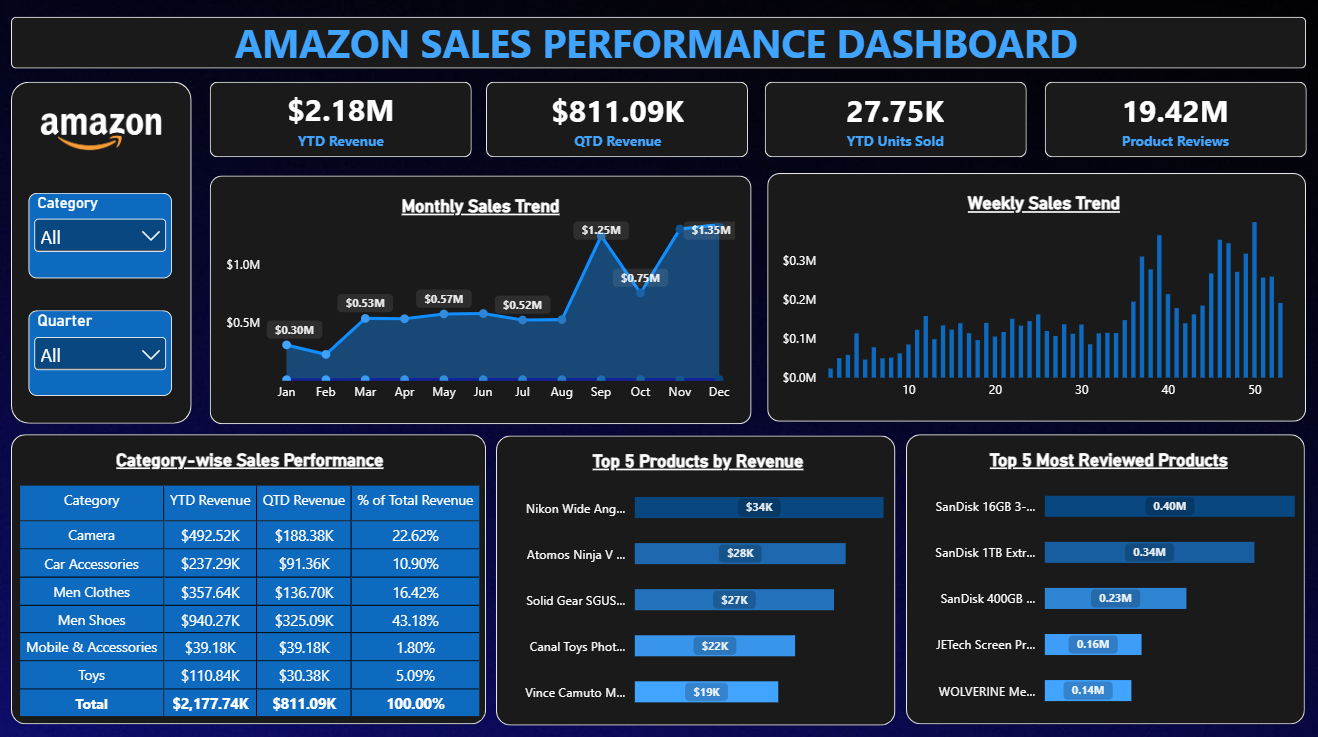

Layout of this report page (visuals, bound fields, positions):
{"tool":"powerbi","page":{"name":"Page 1","canvas":[1280,720],"ordinal":0},"visuals":[{"type":"shape","box":[14.5,18.1,1250,50],"z":0},{"type":"shape","box":[472.8,81.4,252.9,72.9],"z":500,"group":"g1"},{"type":"shape","box":[205.7,81.4,252.9,72.9],"z":1000,"group":"g1"},{"type":"textbox","box":[230,18.6,818.6,51.4],"z":2000},{"type":"shape","box":[14.3,81.4,174.3,330],"z":4000},{"type":"shape","box":[744.3,168.6,520,240],"z":5000},{"type":"shape","box":[205.7,171.4,522.9,240],"z":8000},{"type":"shape","box":[14.3,421.4,458.6,280],"z":12000},{"type":"shape","box":[482.7,421.8,385.5,280],"z":14000},{"type":"group","id":"g1","title":"Group 1","box":[205.7,81.4,1058.6,72.9],"z":14500},{"type":"slicer","fields":{"Values":["Amazon_Data.Product Category"]},"box":[31.6,188,138.6,82.3],"z":17000},{"type":"slicer","fields":{"Values":["Date Table.Qtr"]},"box":[31.6,301.9,138.6,82.3],"z":18000},{"type":"image","box":[28.8,111.1,145.7,42.9],"z":19000},{"type":"cardVisual","fields":{"Data":["Amazon_Data.QTD Sales"]},"box":[502.9,82.9,194.3,71],"z":20500},{"type":"cardVisual","fields":{"Data":["Amazon_Data.YTD Sale"]},"box":[247,82.3,171.5,71.4],"z":21000},{"type":"cardVisual","fields":{"Data":["Amazon_Data.YTD Product Sold"]},"box":[771.4,82.9,194.3,71],"z":21500},{"type":"shape","box":[741.4,81.4,252.9,72.9],"z":22000,"group":"g1"},{"type":"cardVisual","fields":{"Data":["Amazon_Data.YTD Reviews"]},"box":[1041.4,82.9,194.3,71],"z":22000},{"type":"columnChart","title":"Weekly Sales Trend","fields":{"Category":["Date Table.Week Number"],"Y":["Sum(Amazon_Data.Price(Dollar))"]},"box":[743.7,174.3,536.5,233.3],"z":22500},{"type":"shape","box":[1011.4,81.4,252.9,72.9],"z":23000,"group":"g1"},{"type":"areaChart","title":"Monthly Sales Trend","fields":{"Category":["Date Table.Month"],"Y":["Sum(Amazon_Data.Price(Dollar))","Sum(Date Table.Month Number)"]},"box":[205.7,175.7,522.9,232.9],"z":23000},{"type":"pivotTable","title":"Category-wise Sales Performance","fields":{"Rows":["Amazon_Data.Product Category"],"Values":["Amazon_Data.YTD Sales1","Amazon_Data.QTD Sales","Amazon_Data.YTD Sales"]},"box":[7.1,421.4,475.7,298.6],"z":23500},{"type":"clusteredBarChart","title":"Top 5 Products by Revenue","fields":{"Category":["Amazon_Data.Product Description"],"Y":["Amazon_Data.YTD Sales"]},"box":[482.7,421.8,390,292.9],"z":24000},{"type":"shape","box":[878.8,421.2,385,280],"z":24501},{"type":"clusteredBarChart","title":"Top 5 Most Reviewed Products","fields":{"Category":["Amazon_Data.Product Description"],"Y":["Amazon_Data.YTD Reviews"]},"box":[878.8,421.2,391.4,292.9],"z":25001}]}

Visuals, with their boxes in screenshot pixels (x1, y1, x2, y2), scaled from the page's 1280x720 canvas onto the 1318x737 screenshot:
shape: detection(15, 19, 1302, 70)
shape: detection(487, 83, 747, 158)
shape: detection(212, 83, 472, 158)
textbox: detection(237, 19, 1080, 72)
shape: detection(15, 83, 194, 421)
shape: detection(766, 173, 1302, 418)
shape: detection(212, 175, 750, 421)
shape: detection(15, 431, 487, 718)
shape: detection(497, 432, 894, 718)
"Group 1" group: detection(212, 83, 1302, 158)
slicer - Amazon_Data.Product Category: detection(33, 192, 175, 277)
slicer - Date Table.Qtr: detection(33, 309, 175, 393)
image: detection(30, 114, 180, 158)
cardVisual - Amazon_Data.QTD Sales: detection(518, 85, 718, 158)
cardVisual - Amazon_Data.YTD Sale: detection(254, 84, 431, 157)
cardVisual - Amazon_Data.YTD Product Sold: detection(794, 85, 994, 158)
shape: detection(763, 83, 1024, 158)
cardVisual - Amazon_Data.YTD Reviews: detection(1072, 85, 1272, 158)
"Weekly Sales Trend" columnChart: detection(766, 178, 1317, 417)
shape: detection(1041, 83, 1302, 158)
"Monthly Sales Trend" areaChart: detection(212, 180, 750, 418)
"Category-wise Sales Performance" pivotTable: detection(7, 431, 497, 736)
"Top 5 Products by Revenue" clusteredBarChart: detection(497, 432, 899, 732)
shape: detection(905, 431, 1301, 718)
"Top 5 Most Reviewed Products" clusteredBarChart: detection(905, 431, 1308, 731)
